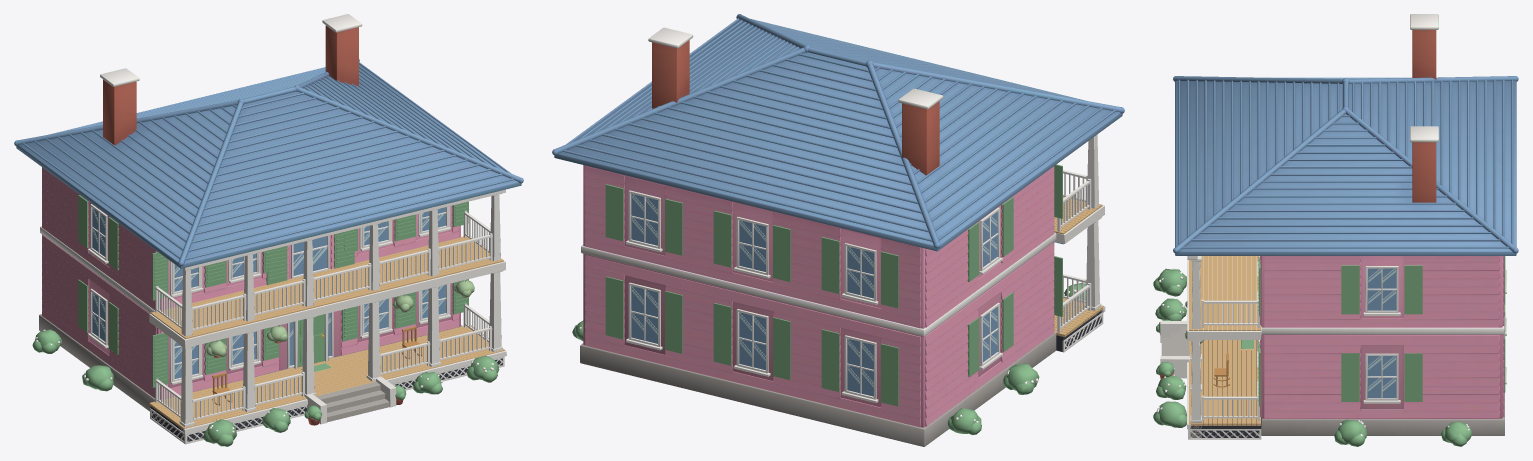
The model's file is colonial-house.glb.
3 renders of one model, left to right at view 1: azimuth 30°, elevation 25°; view 2: azimuth 150°, elevation 25°; view 3: azimuth 270°, elevation 25°, orthographic. The views are drawn at different scales.
Parts seen in each view (by area): view 1: colonial-house_body, colonial-house_details_flat, colonial-house_details, colonial-house_plants, colonial-house_glints, colonial-house_door_l; view 2: colonial-house_body, colonial-house_details_flat, colonial-house_details, colonial-house_glints, colonial-house_plants; view 3: colonial-house_body, colonial-house_details_flat, colonial-house_details, colonial-house_plants, colonial-house_glints.
Part boxes in pixels (<box>): colonial-house_body: <box>14,14,523,411</box>; colonial-house_details_flat: <box>78,195,505,444</box>; colonial-house_details: <box>87,189,506,441</box>; colonial-house_plants: <box>32,279,499,446</box>; colonial-house_glints: <box>92,208,444,374</box>; colonial-house_door_l: <box>298,314,324,367</box>; colonial-house_body: <box>552,14,1124,446</box>; colonial-house_details_flat: <box>605,164,1103,406</box>; colonial-house_details: <box>626,134,1105,402</box>; colonial-house_glints: <box>632,194,997,387</box>; colonial-house_plants: <box>572,283,1085,435</box>; colonial-house_body: <box>1173,14,1518,435</box>; colonial-house_details_flat: <box>1188,256,1505,439</box>; colonial-house_details: <box>1159,256,1506,437</box>; colonial-house_plants: <box>1153,268,1471,446</box>; colonial-house_glints: <box>1368,268,1395,391</box>.
Bounding box in the file's own units: 14.33 × 10.32 × 12.09.
17 materials, 1 textured.
